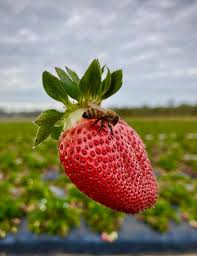ripe: (56, 103, 164, 217)
